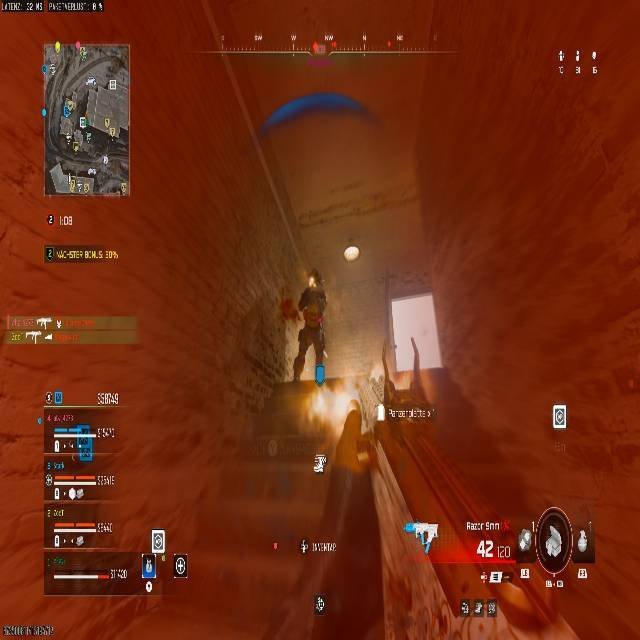player: (295, 271, 328, 381)
